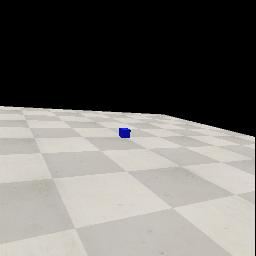box: (119, 128, 131, 138)
